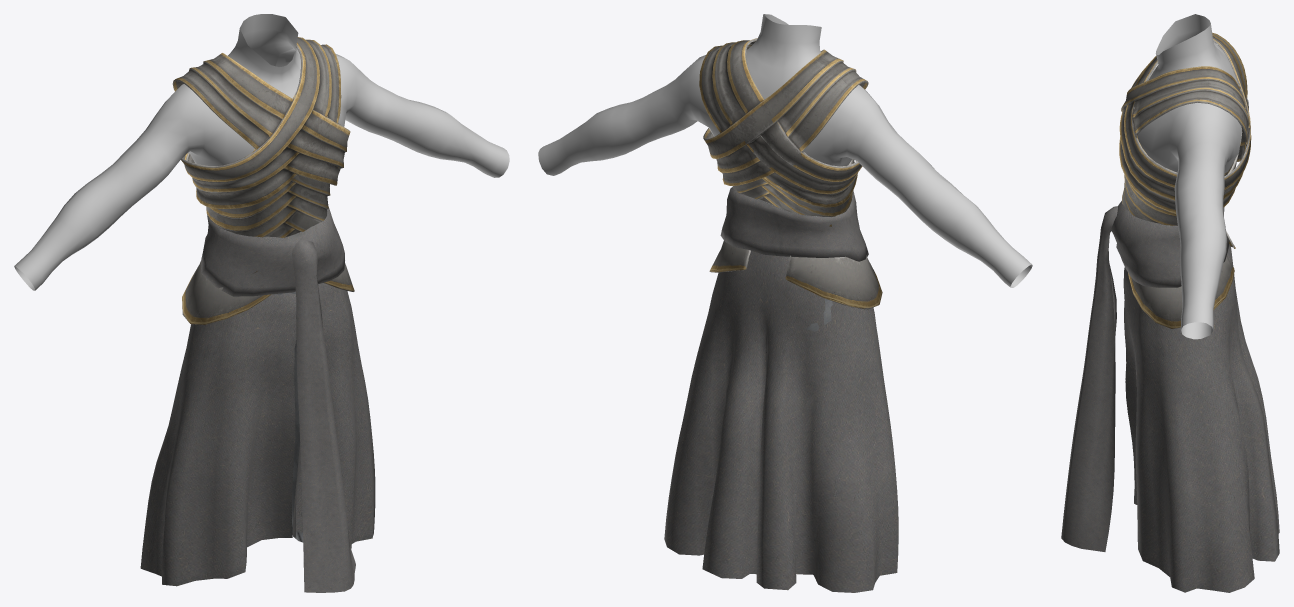
The model's file is rivendell_torso_infantry_tier1_silvergold.fbx.
3 views of the same model, side by side, from view 1: azimuth 30°, elevation 25°; view 2: azimuth 150°, elevation 25°; view 3: azimuth 270°, elevation 25° (orthographic). The views are drawn at different scales.
Parts seen in each view (by area): view 1: rivendell_torso_infantry_tier1_silvergold.0, rivendell_torso_infantry_tier1_silvergold.4, rivendell_torso_infantry_tier1_silvergold.1, rivendell_torso_infantry_tier1_silvergold.3, rivendell_torso_infantry_tier1_silvergold.2; view 2: rivendell_torso_infantry_tier1_silvergold.0, rivendell_torso_infantry_tier1_silvergold.4, rivendell_torso_infantry_tier1_silvergold.1, rivendell_torso_infantry_tier1_silvergold.3, rivendell_torso_infantry_tier1_silvergold.2; view 3: rivendell_torso_infantry_tier1_silvergold.0, rivendell_torso_infantry_tier1_silvergold.4, rivendell_torso_infantry_tier1_silvergold.3, rivendell_torso_infantry_tier1_silvergold.1, rivendell_torso_infantry_tier1_silvergold.2.
Part boxes in pixels (bbox=[...]): rivendell_torso_infantry_tier1_silvergold.0: bbox=[140, 283, 375, 586]; rivendell_torso_infantry_tier1_silvergold.4: bbox=[14, 14, 509, 290]; rivendell_torso_infantry_tier1_silvergold.1: bbox=[172, 37, 350, 273]; rivendell_torso_infantry_tier1_silvergold.3: bbox=[201, 206, 355, 592]; rivendell_torso_infantry_tier1_silvergold.2: bbox=[182, 260, 354, 324]; rivendell_torso_infantry_tier1_silvergold.0: bbox=[664, 250, 898, 592]; rivendell_torso_infantry_tier1_silvergold.4: bbox=[538, 14, 1032, 287]; rivendell_torso_infantry_tier1_silvergold.1: bbox=[699, 38, 868, 226]; rivendell_torso_infantry_tier1_silvergold.3: bbox=[720, 187, 868, 261]; rivendell_torso_infantry_tier1_silvergold.2: bbox=[709, 241, 882, 309]; rivendell_torso_infantry_tier1_silvergold.0: bbox=[1123, 244, 1279, 592]; rivendell_torso_infantry_tier1_silvergold.4: bbox=[1137, 14, 1241, 339]; rivendell_torso_infantry_tier1_silvergold.3: bbox=[1061, 201, 1229, 551]; rivendell_torso_infantry_tier1_silvergold.1: bbox=[1119, 32, 1251, 225]; rivendell_torso_infantry_tier1_silvergold.2: bbox=[1128, 230, 1235, 328].
Bounding box in the file's own units: 1.38 × 0.5499 × 1.46.
